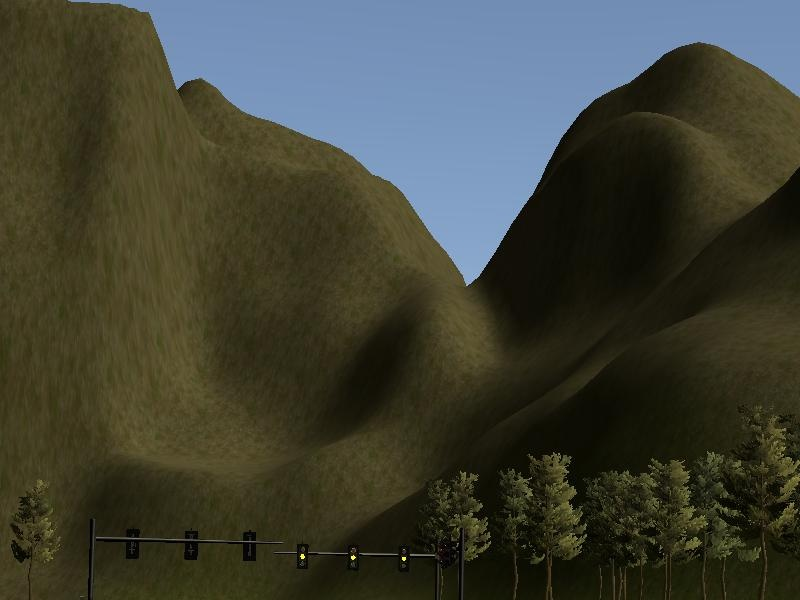yellow: (398, 545, 411, 573), (297, 542, 309, 570), (348, 544, 360, 569)
